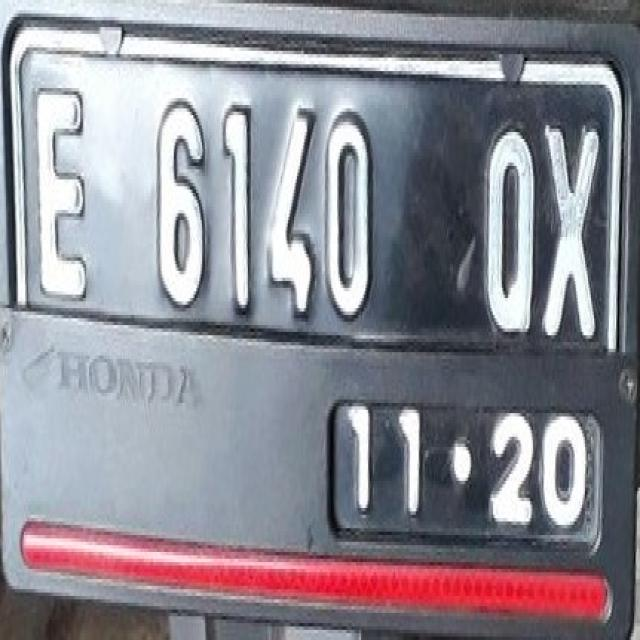plate: (3, 7, 622, 572)
